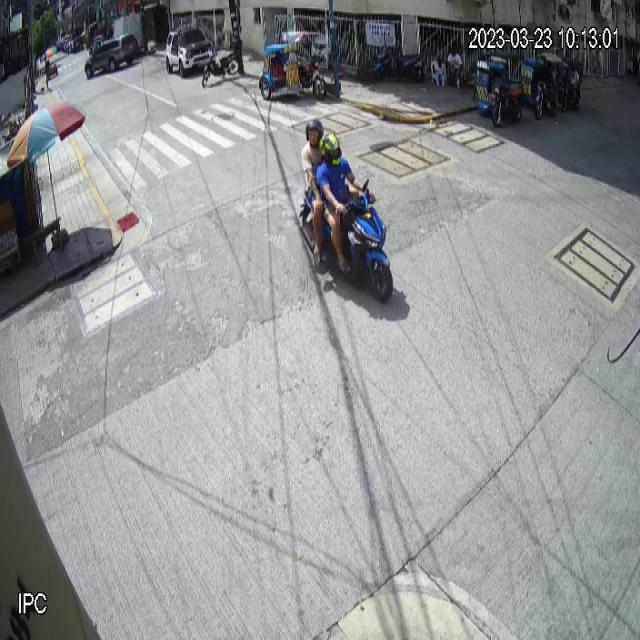Motorcycle: (298, 176, 394, 303)
Tricycle: (259, 30, 327, 100), (475, 50, 526, 128)
